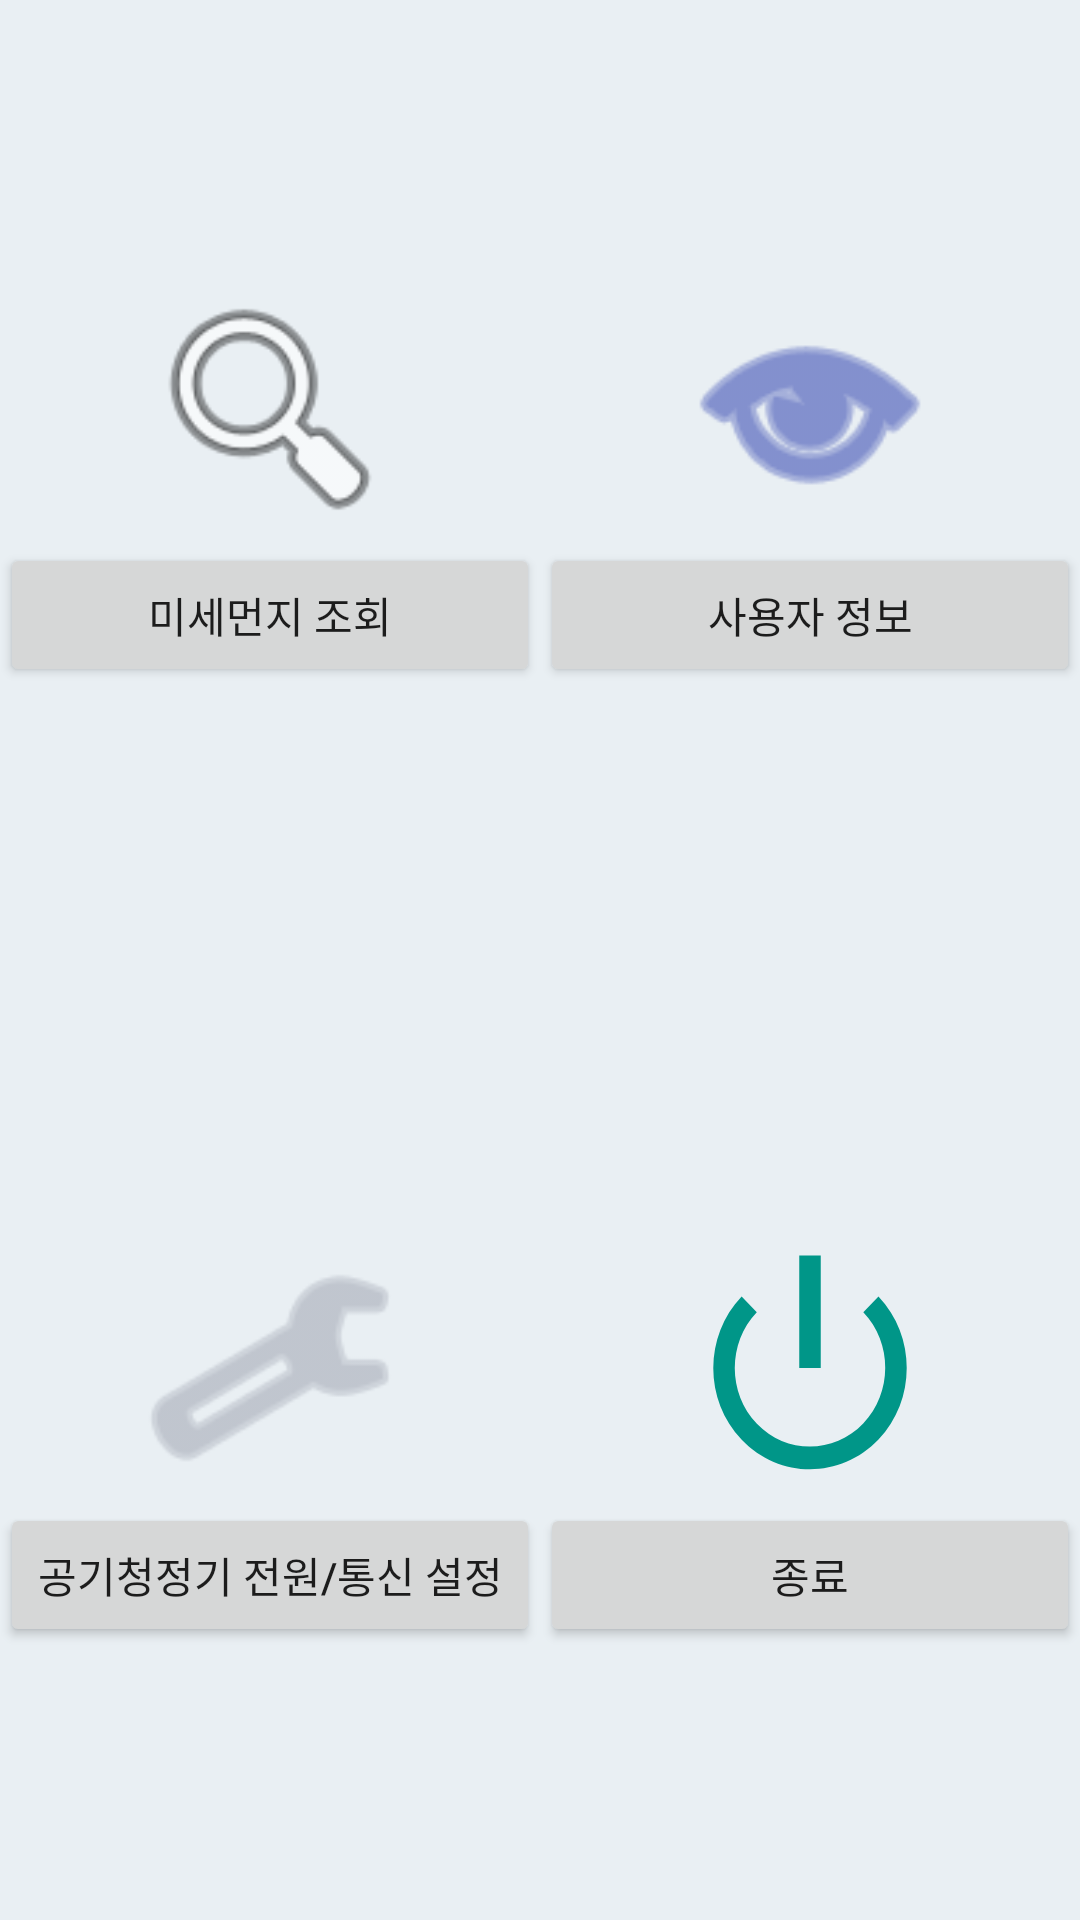

Named icons in this screenshot (1080×1920) and their bounding boxes, [x1, y1, x2, y2]:
lock power off: [713, 1255, 907, 1470]
manage: [153, 1278, 387, 1458]
search: [170, 309, 370, 510]
view: [700, 346, 920, 484]
